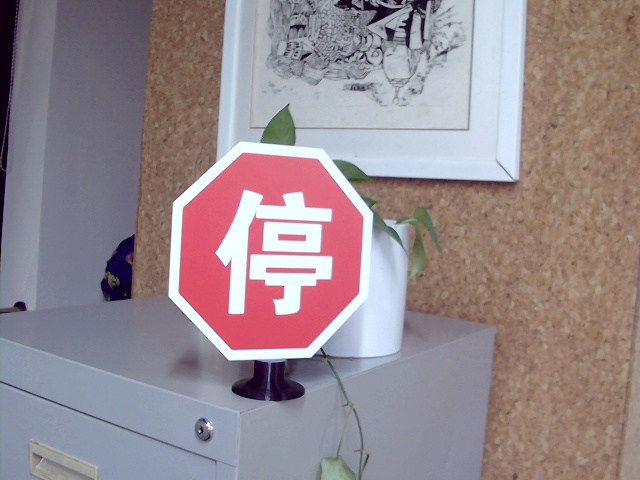stop: (214, 184, 329, 318)
